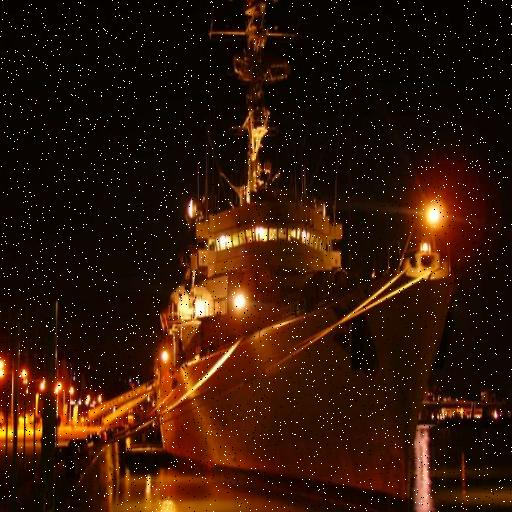Portanaves: (96, 1, 477, 512)
